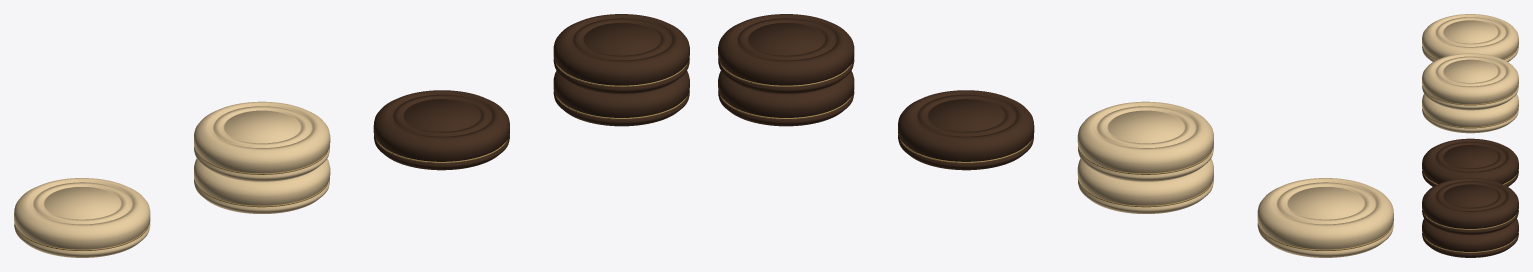
The model's file is collection.glb.
3 renders of one model, left to right at view 1: azimuth 30°, elevation 25°; view 2: azimuth 150°, elevation 25°; view 3: azimuth 270°, elevation 25°, orthographic. The views are drawn at different scales.
Parts seen in each view (by area): view 1: light_king counter 2, light_man counter 1, dark_man counter 1, dark_king counter 2, dark_king counter 1, light_king counter 1; view 2: light_king counter 2, light_man counter 1, dark_man counter 1, dark_king counter 2, dark_king counter 1, light_king counter 1; view 3: light_king counter 2, dark_king counter 2, dark_man counter 1, light_man counter 1, light_king counter 1, dark_king counter 1, light_king inlay 1, light_king inlay 2, dark_king inlay 1, dark_king inlay 2.
Part boxes in pixels (x1,y1,x2,y2): light_king counter 2: (194, 101, 330, 181); light_man counter 1: (14, 178, 150, 257); dark_man counter 1: (373, 90, 509, 170); dark_king counter 2: (553, 14, 689, 93); dark_king counter 1: (553, 71, 689, 126); light_king counter 1: (194, 158, 330, 213); light_king counter 2: (1077, 101, 1213, 181); light_man counter 1: (1257, 178, 1393, 257); dark_man counter 1: (898, 90, 1034, 170); dark_king counter 2: (718, 14, 854, 93); dark_king counter 1: (718, 71, 854, 126); light_king counter 1: (1077, 158, 1213, 213); light_king counter 2: (1422, 53, 1518, 110); dark_king counter 2: (1422, 178, 1518, 234); dark_man counter 1: (1422, 138, 1518, 186); light_man counter 1: (1422, 14, 1518, 61); light_king counter 1: (1422, 94, 1518, 133); dark_king counter 1: (1422, 218, 1518, 257); light_king inlay 1: (1423, 111, 1517, 128); light_king inlay 2: (1424, 89, 1516, 105); dark_king inlay 1: (1424, 237, 1516, 252); dark_king inlay 2: (1424, 214, 1516, 229).
Size of the model in its own units: 0.234 by 0.022 by 0.042.
